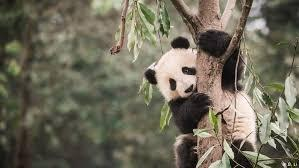bear: (145, 30, 259, 168)
